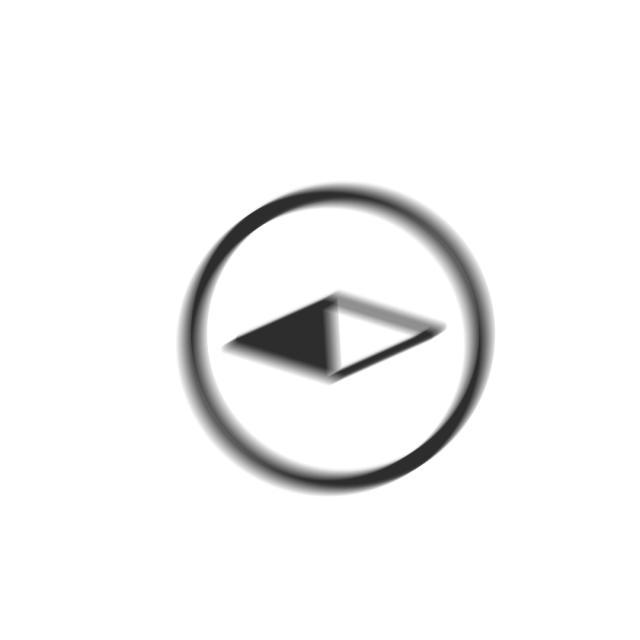compass: (172, 177, 500, 508)
